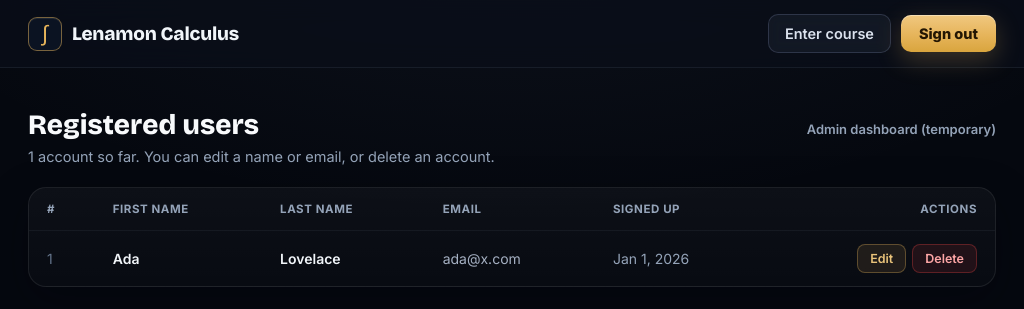
admin inline-edit input accessibility › gives each inline-edit field an accessible name
Click the button "Edit" at [882, 258], box [857,244,906,273]
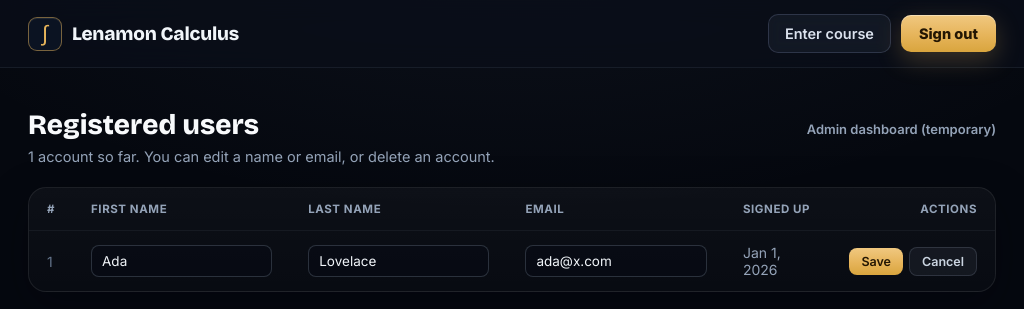
Check: the field named "first name" is shown, box [91,245,272,277]
Check: the field named "last name" is shown, box [308,245,489,277]
Check: the field named "email" is shown, box [525,245,707,277]
